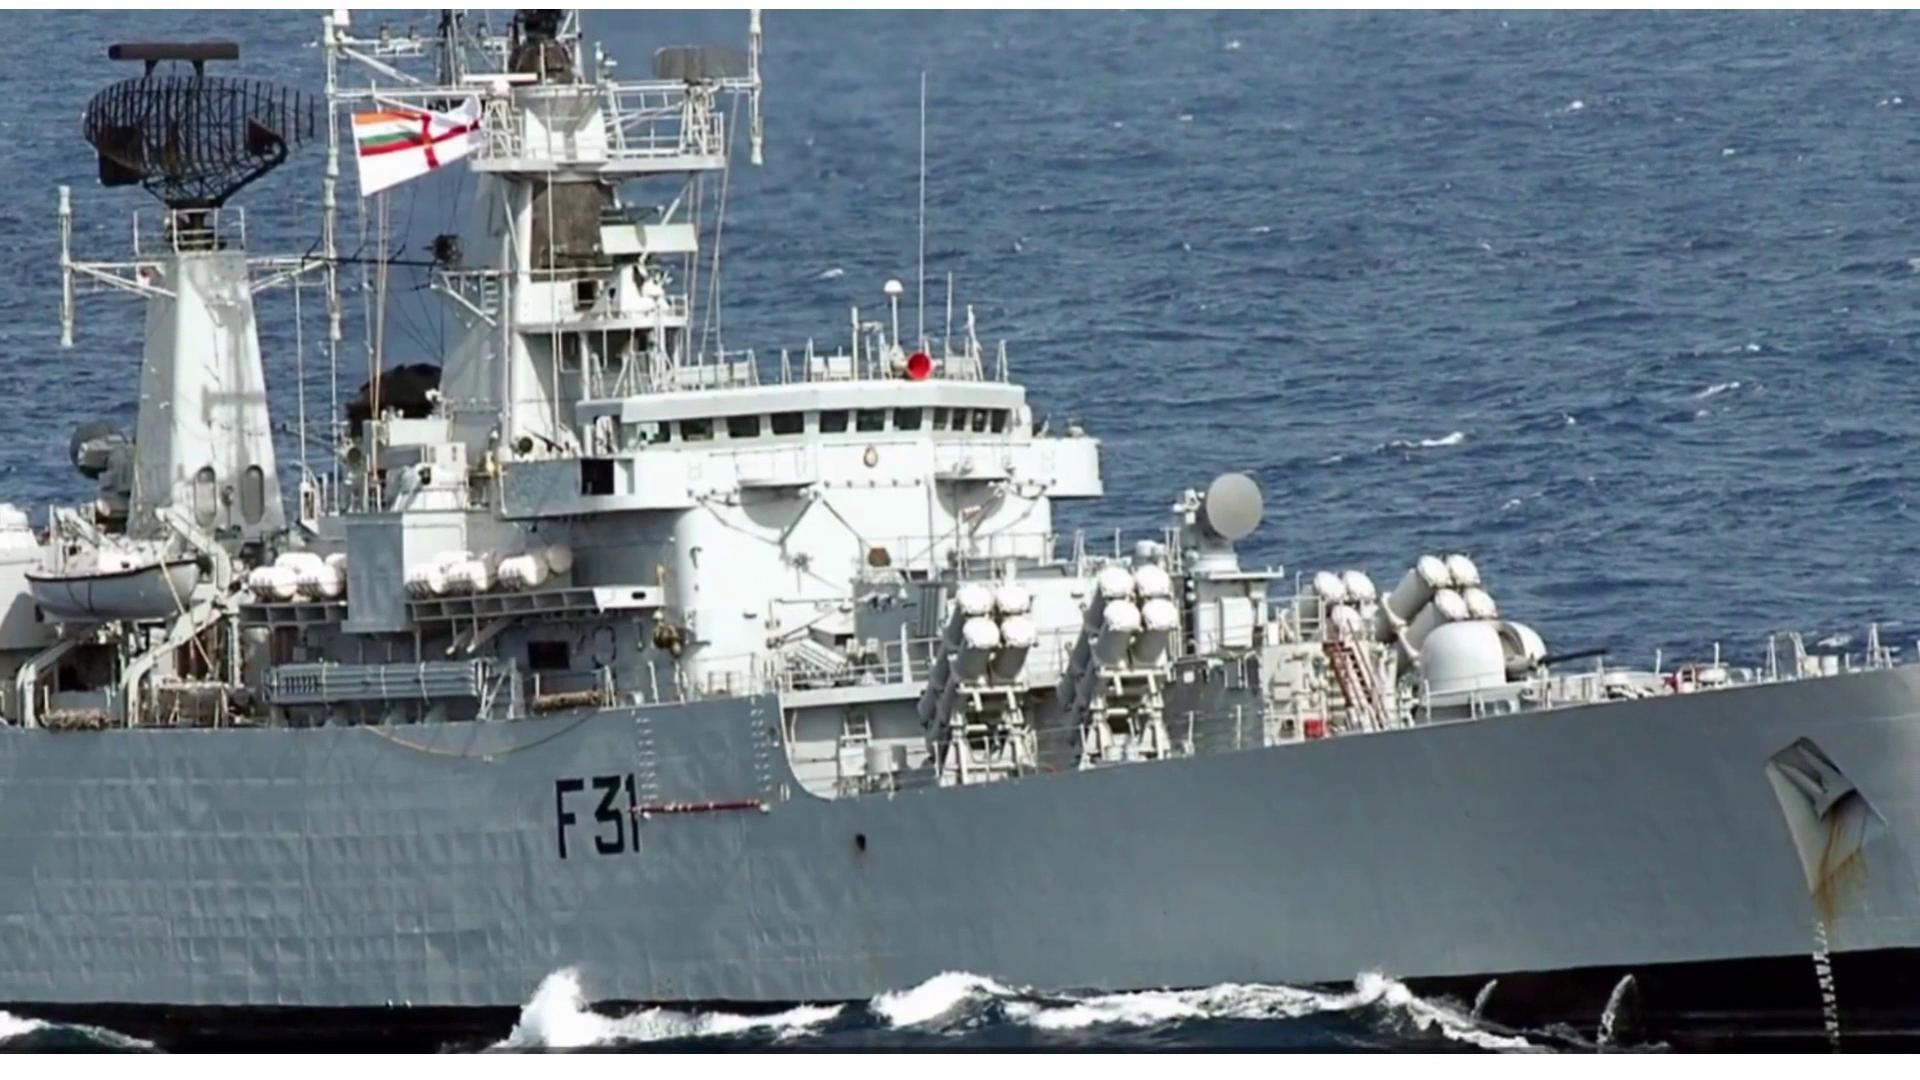OCR: (549, 770, 646, 869)
